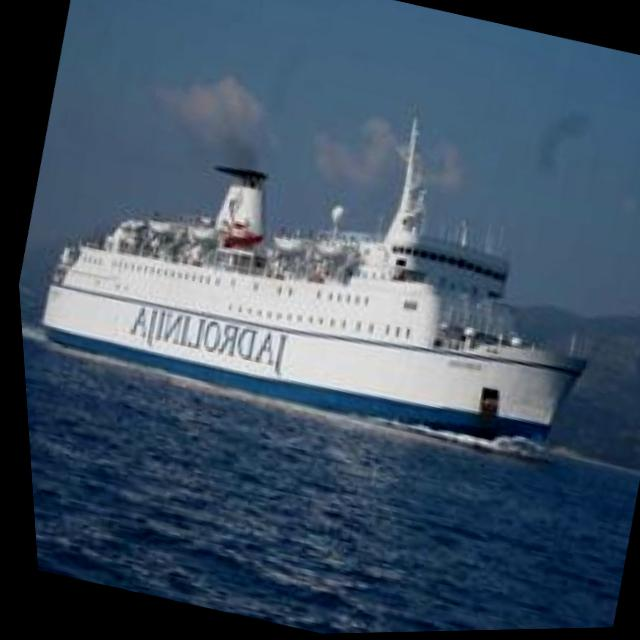ship2: (34, 113, 582, 451)
